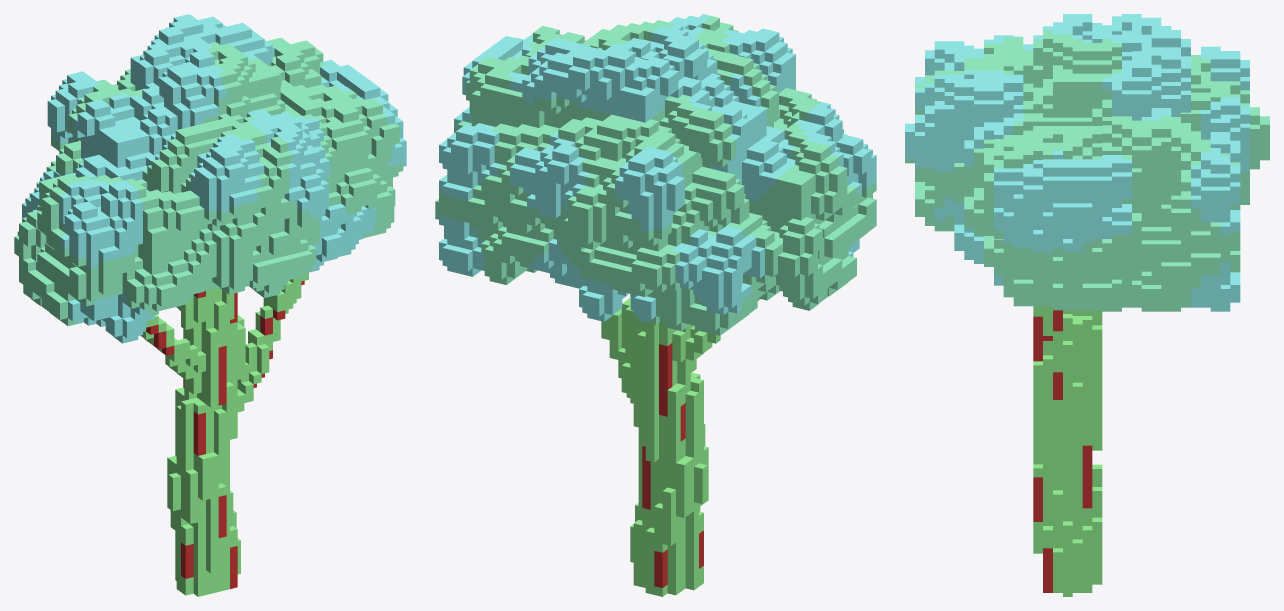
Rendered from OrangeTree.fbx.
The picture shows the model from 3 angles, left to right: view 1: azimuth 30°, elevation 25°; view 2: azimuth 150°, elevation 25°; view 3: azimuth 270°, elevation 25°; orthographic projection. The views are drawn at different scales.
Parts seen in each view (by area): view 1: OrangeTree; view 2: OrangeTree; view 3: OrangeTree.
Part boxes in pixels (x1,y1,x2,y2): OrangeTree: (14,14,406,596); OrangeTree: (435,14,876,596); OrangeTree: (905,14,1269,596).
Size of the model in its own units: 1680 by 1480 by 2520.
